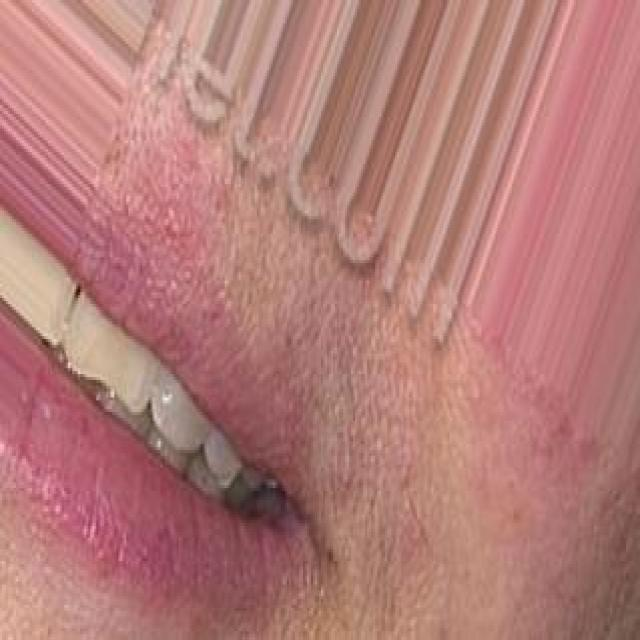Rosacea: (471, 336, 594, 531), (124, 118, 222, 268)
